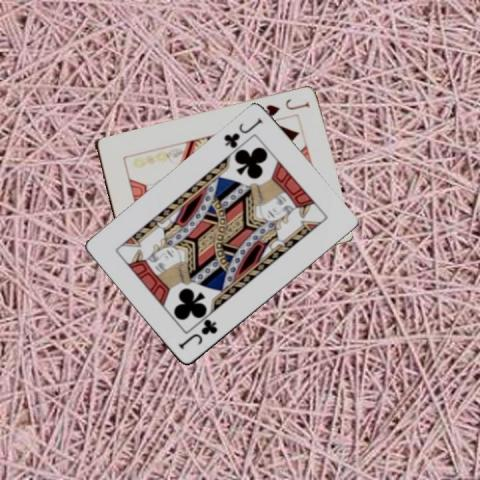Jc: (221, 115, 264, 151), (176, 318, 220, 352)
Js: (261, 97, 311, 118)
